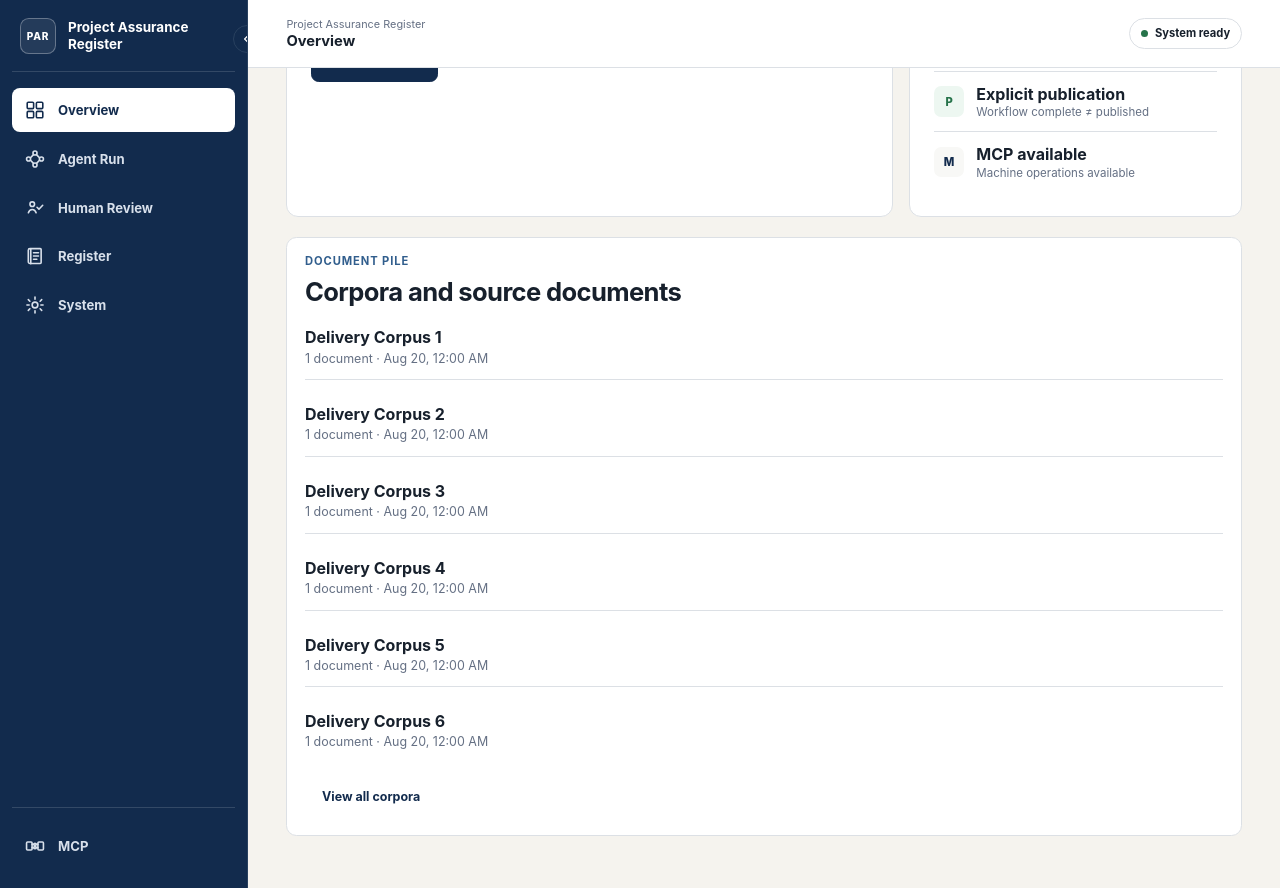
Test: App › keeps a large corpus list compact on Overview
(page scrolled)
Expected: the heading "Delivery Corpus 1" is shown, [305,327,442,347]
Expected: the heading "Delivery Corpus 6" is shown, [305,711,445,731]
Click the button "View all corpora".
click(371, 797)  # box [305,775,437,819]
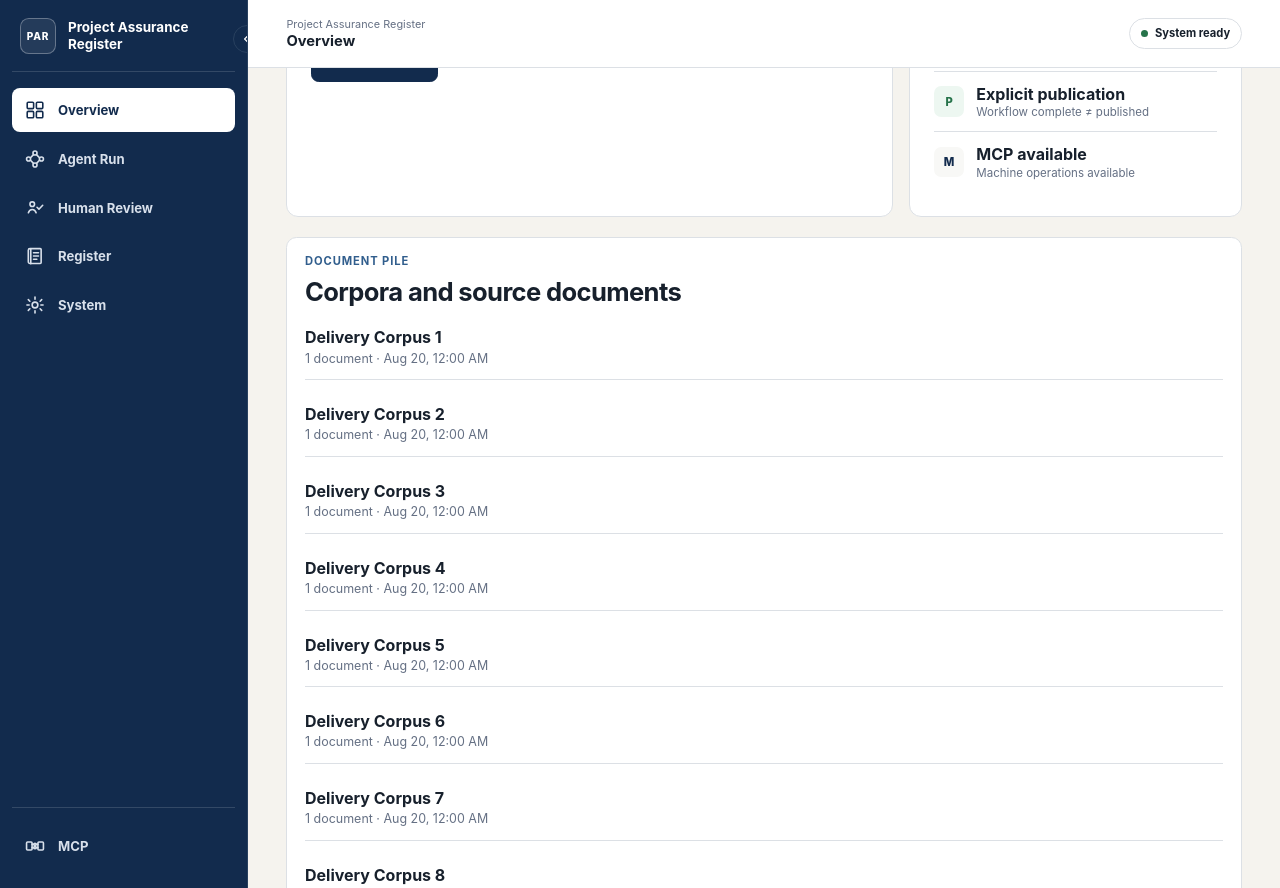
Now the heading "Delivery Corpus 8" is shown, box [305,865,445,885]
